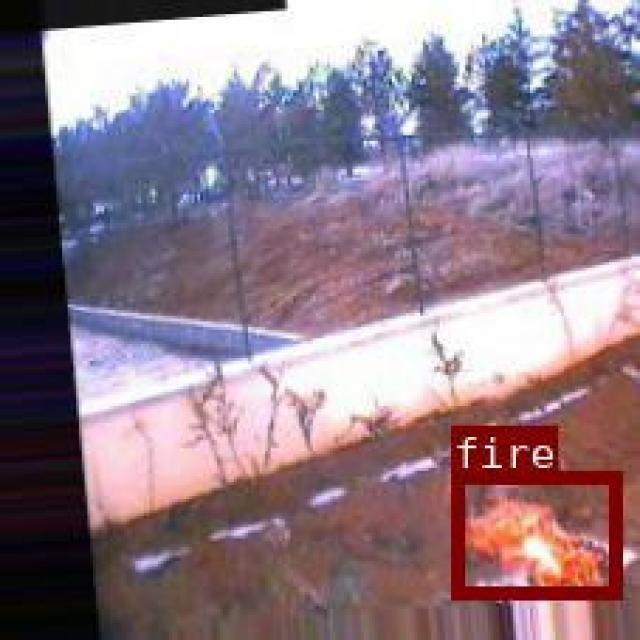fire: (451, 469, 620, 596)
